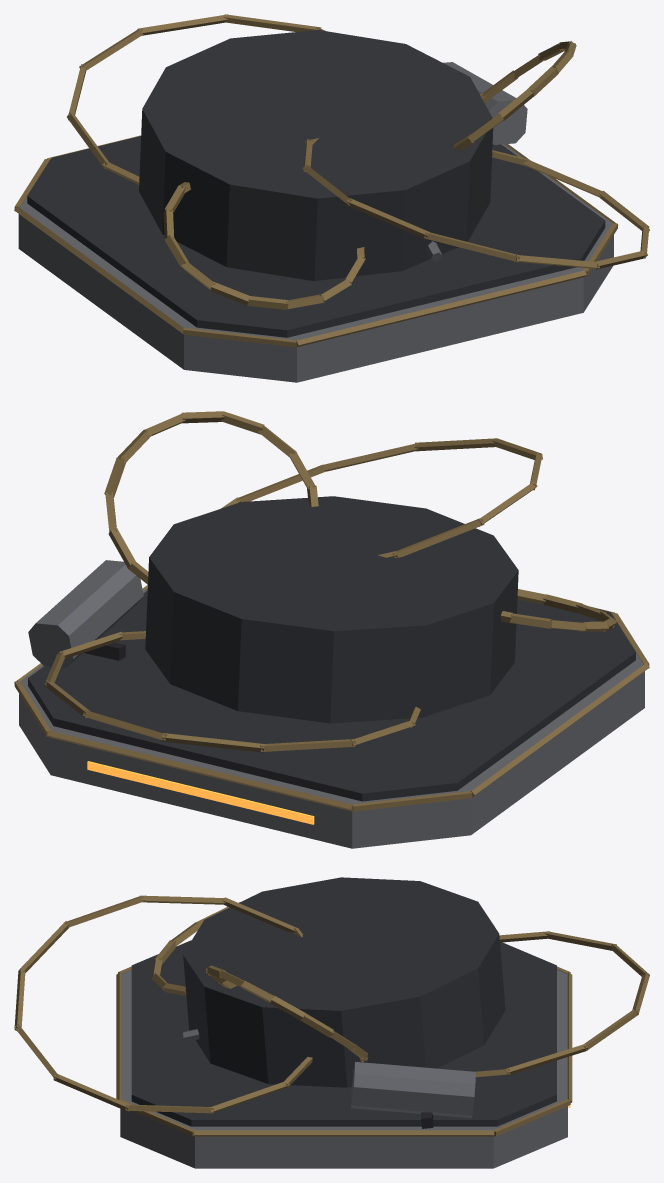
File: Wreck_Aegis_FusionReactor.fbx
The picture shows the model from 3 angles, top to bottom: view 1: azimuth 30°, elevation 25°; view 2: azimuth 150°, elevation 25°; view 3: azimuth 270°, elevation 25°; orthographic projection. The views are drawn at different scales.
Visible parts, largest first — view 1: Wreck_Aegis_FusionReactor; view 2: Wreck_Aegis_FusionReactor; view 3: Wreck_Aegis_FusionReactor.
Boxes of the visible parts, left/top/right/bottom form: Wreck_Aegis_FusionReactor: left=14, top=14, right=649, bottom=382; Wreck_Aegis_FusionReactor: left=14, top=411, right=649, bottom=848; Wreck_Aegis_FusionReactor: left=14, top=877, right=649, bottom=1168.
Bounding box in the file's own units: 2.49 × 1.07 × 3.41.
